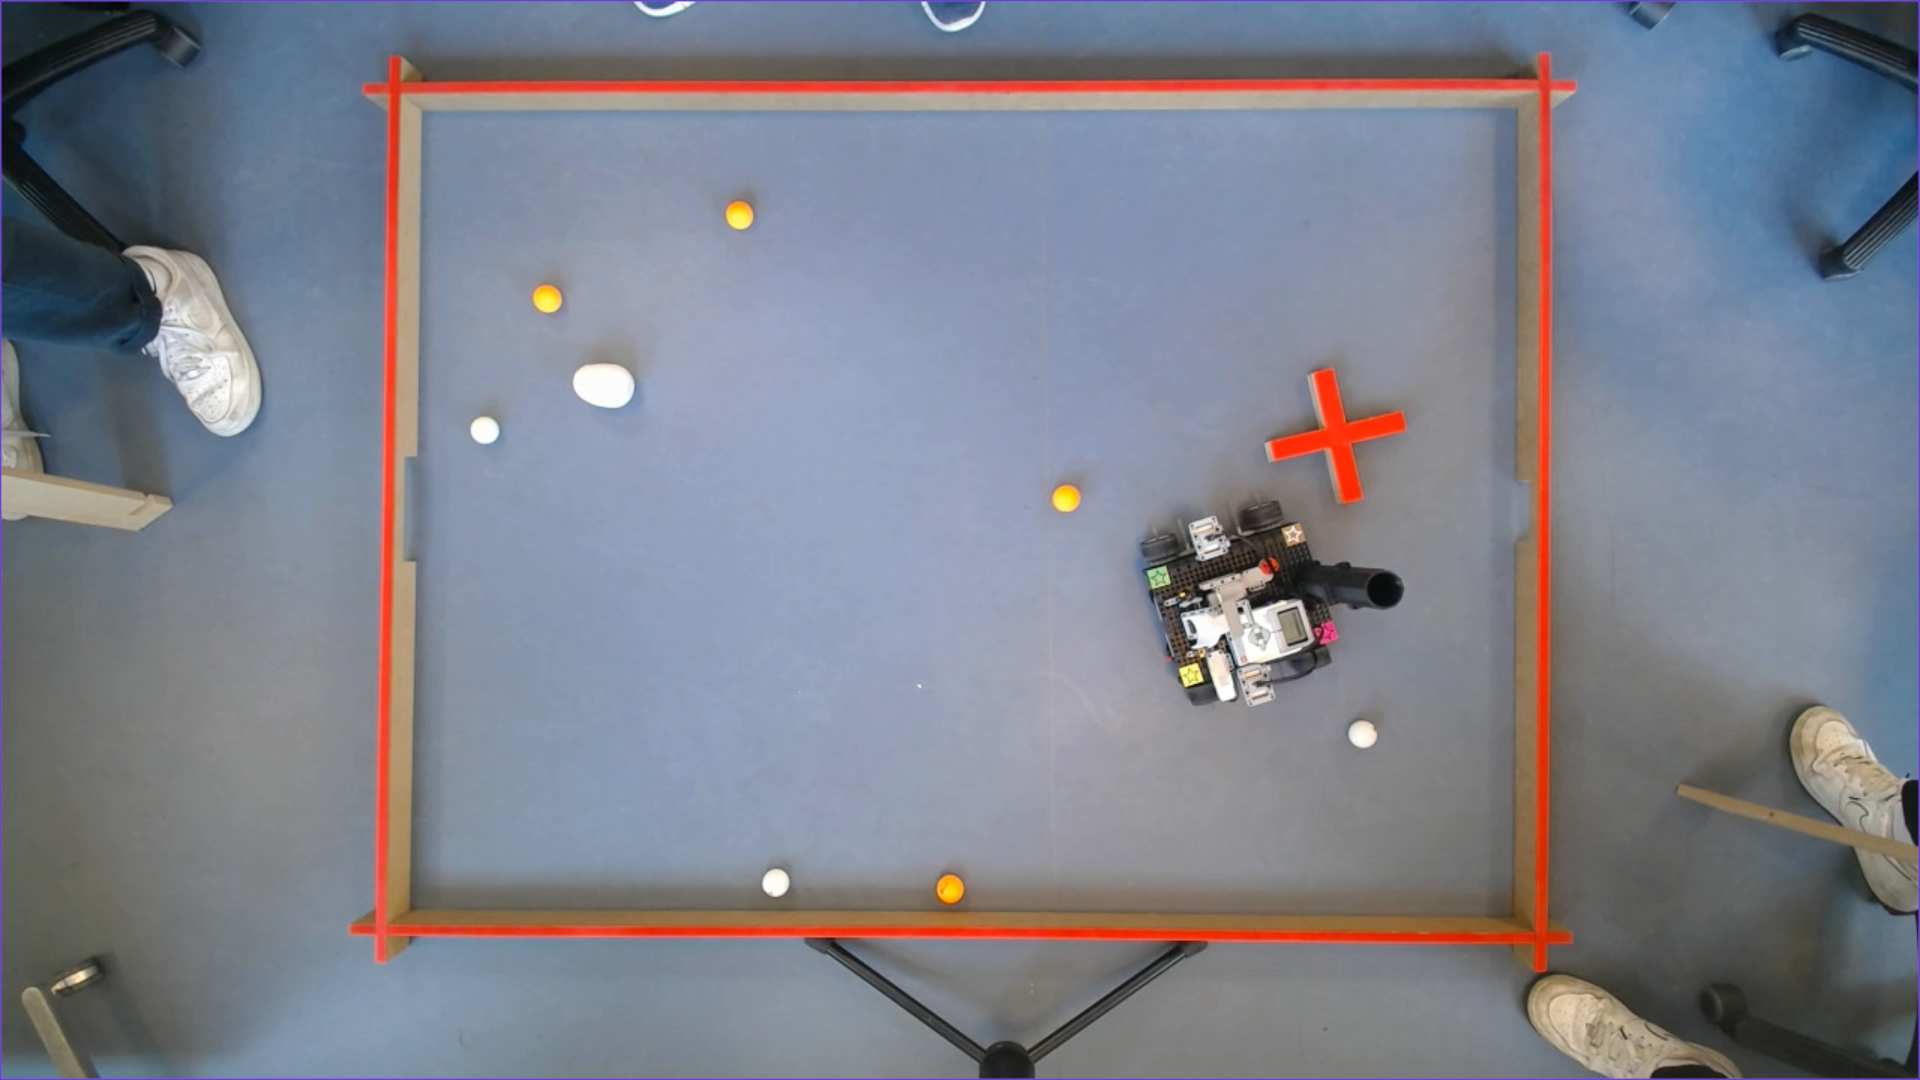ball_orange: (930, 876, 968, 906), (723, 200, 753, 229), (1054, 484, 1079, 512), (530, 285, 559, 309)
ball_white: (1348, 719, 1378, 749), (469, 415, 500, 442), (760, 872, 793, 895)
corner_brown: (1284, 526, 1307, 545)
corner_green: (1149, 566, 1170, 587)
corner_pink: (1317, 621, 1337, 642)
corner_yellow: (1178, 665, 1203, 687)
cross: (1265, 364, 1412, 509)
egg: (574, 363, 636, 407)
playfield: (371, 75, 1557, 949)
